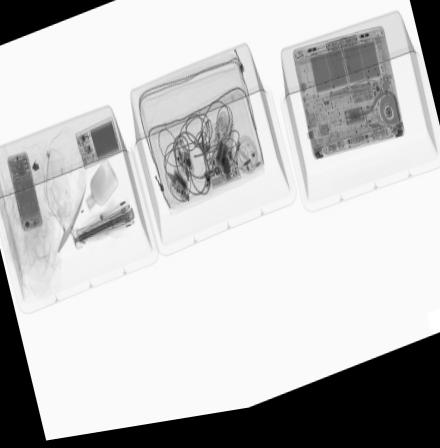Powerbank: (73, 118, 123, 176)
